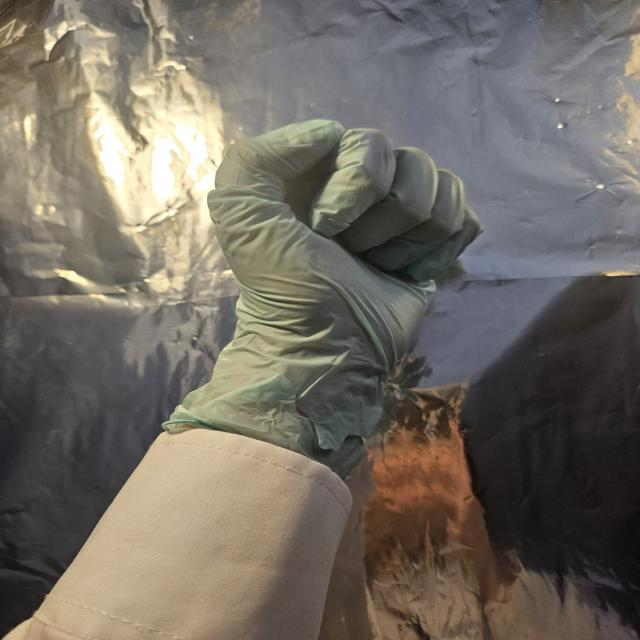gloves_damaged: (158, 119, 484, 482)
